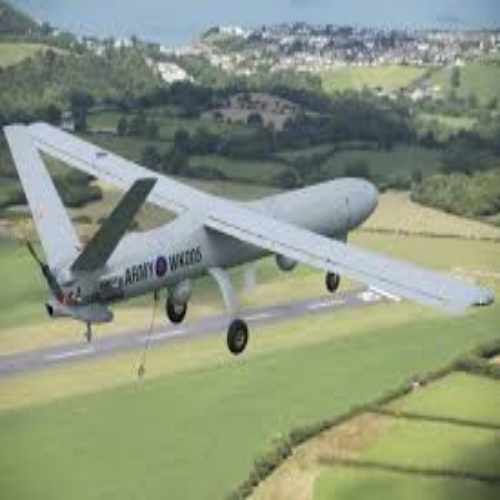uav: (4, 119, 495, 357)
